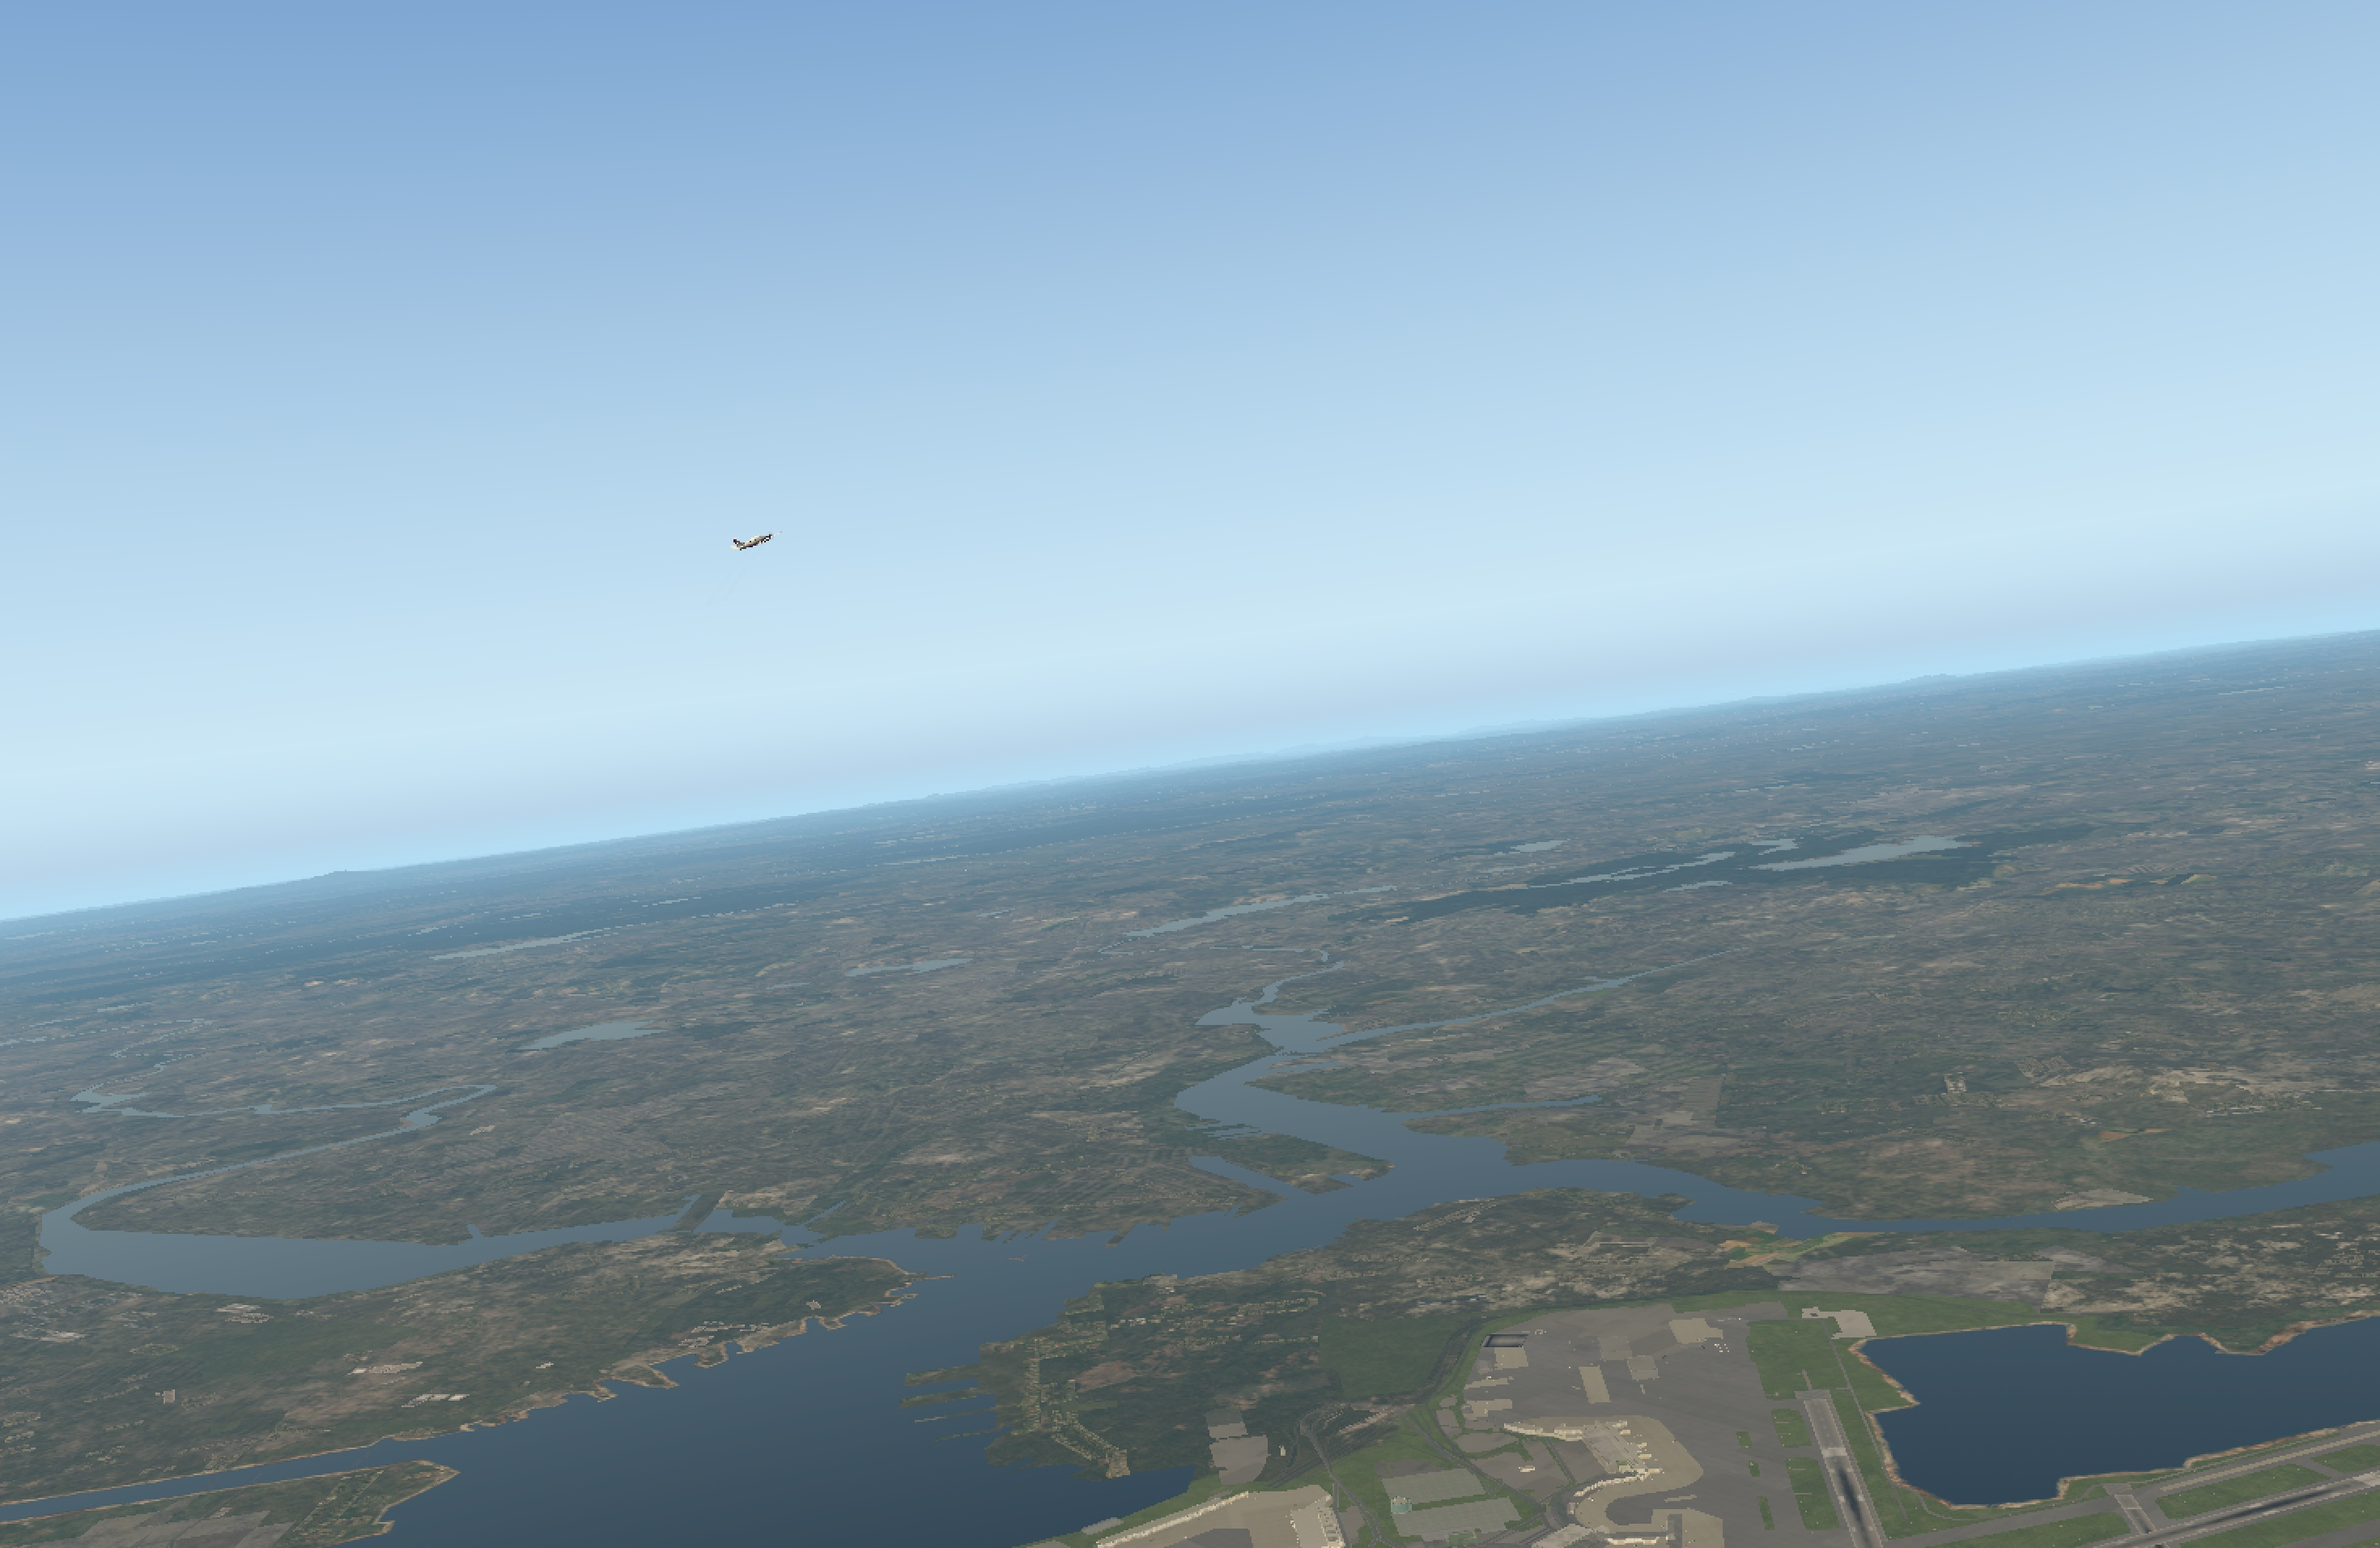aircraft: (725, 529, 793, 555)
